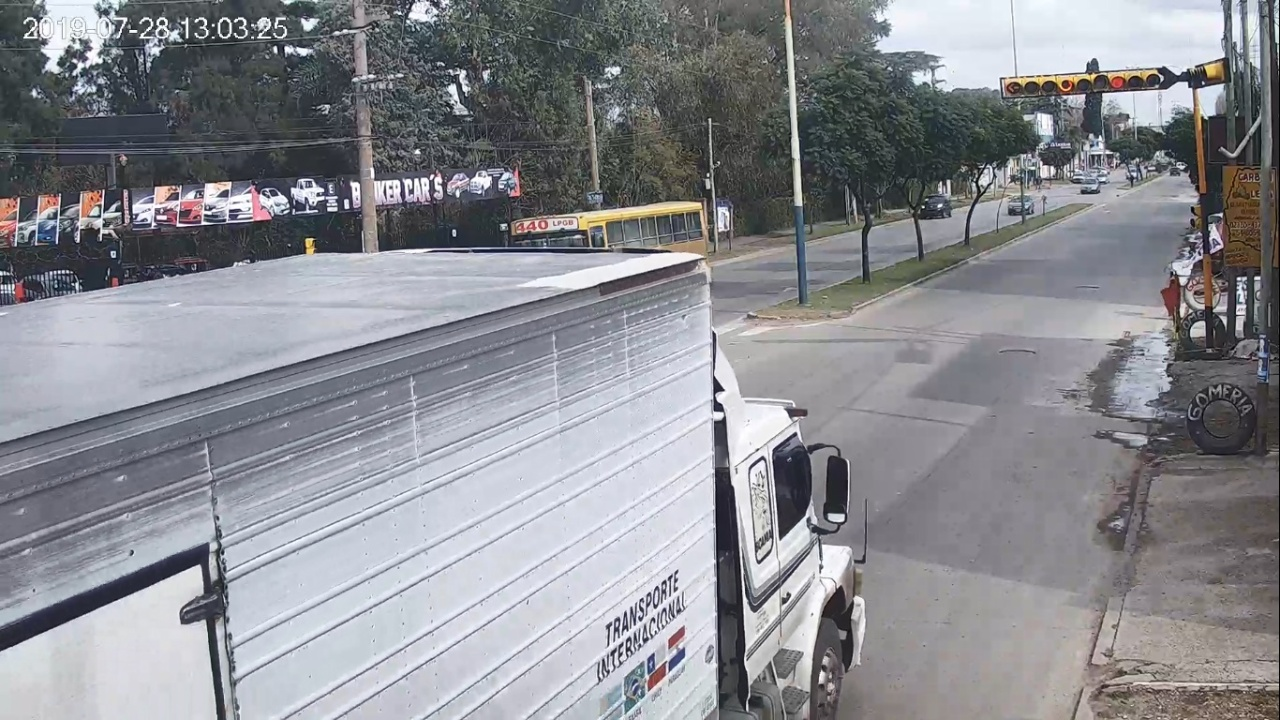traffic light: (1058, 70, 1160, 92)
truck: (1, 252, 870, 718)
